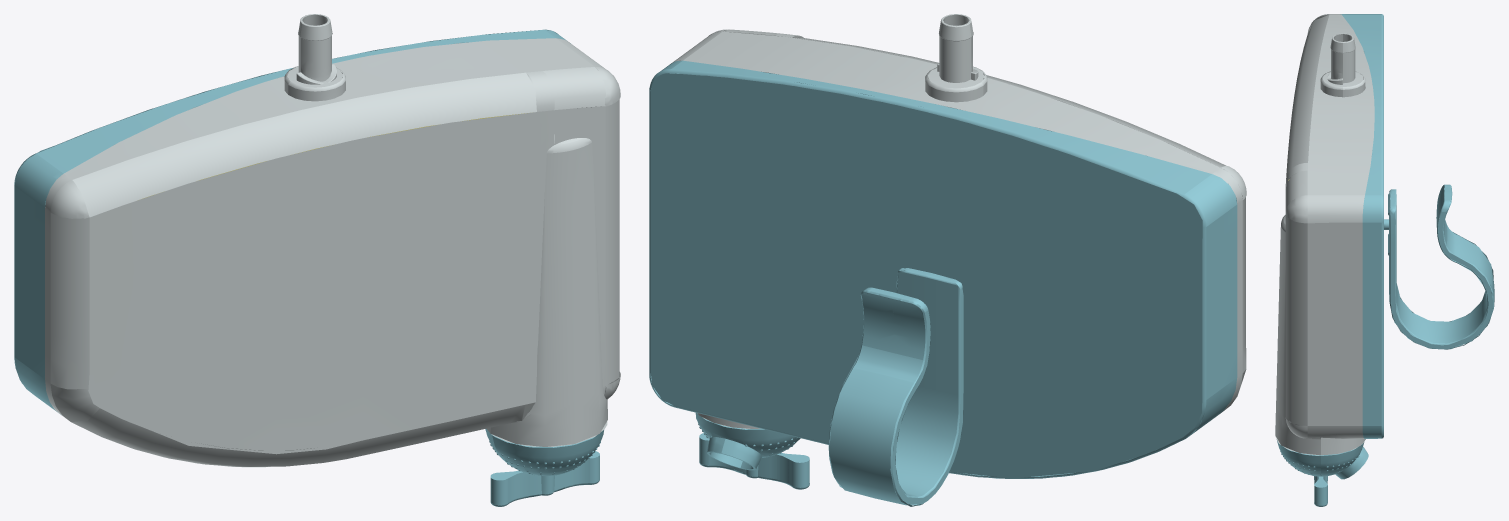
File: UrinaryBag.fbx
3 views of the same model, side by side, from view 1: azimuth 30°, elevation 25°; view 2: azimuth 150°, elevation 25°; view 3: azimuth 270°, elevation 25° (orthographic). The views are drawn at different scales.
Parts seen in each view (by area): view 1: Front, Body, ReleaseScrew, TopInsert; view 2: Back, Body, Hook, ReleaseScrew, TopInsert; view 3: Body, Hook, ReleaseScrew, TopInsert.
Part boxes in pixels (x1=…): Front: x1=88, y1=112, x2=536, y2=454; Body: x1=14, y1=29, x2=620, y2=467; ReleaseScrew: x1=485, y1=421, x2=607, y2=506; TopInsert: x1=284, y1=14, x2=345, y2=101; Back: x1=650, y1=73, x2=1202, y2=478; Body: x1=649, y1=29, x2=1246, y2=478; Hook: x1=828, y1=268, x2=963, y2=506; ReleaseScrew: x1=695, y1=412, x2=809, y2=489; TopInsert: x1=925, y1=14, x2=987, y2=102; Body: x1=1275, y1=14, x2=1383, y2=455; Hook: x1=1384, y1=184, x2=1494, y2=349; ReleaseScrew: x1=1275, y1=436, x2=1368, y2=506; TopInsert: x1=1320, y1=33, x2=1365, y2=97.
Bounding box in the file's own units: 21 × 18.71 × 9.95.
